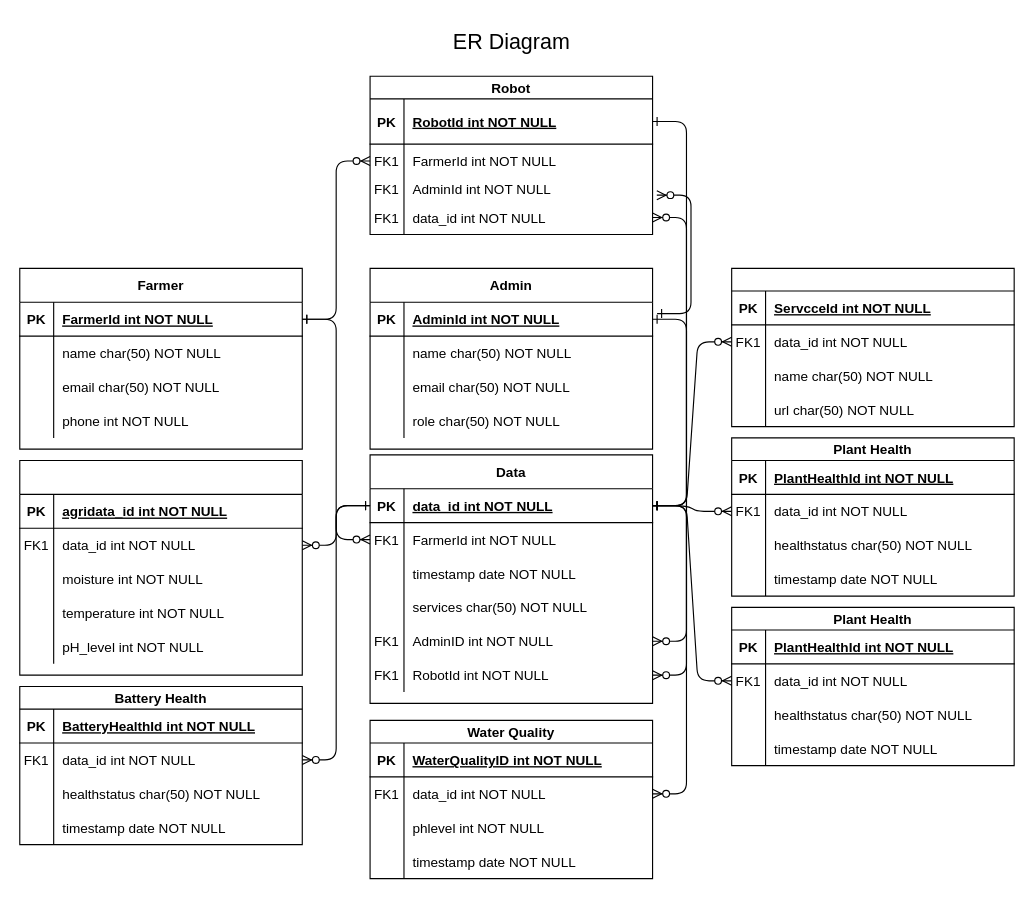
Image size: 1034x898. Some labels were removed from this diagram. The box of each missing label's shape, as (x1, y1, x2, y2) in pixels:
Agriculture Data: (19, 459, 302, 675)
Weather Data: (731, 267, 1014, 427)
